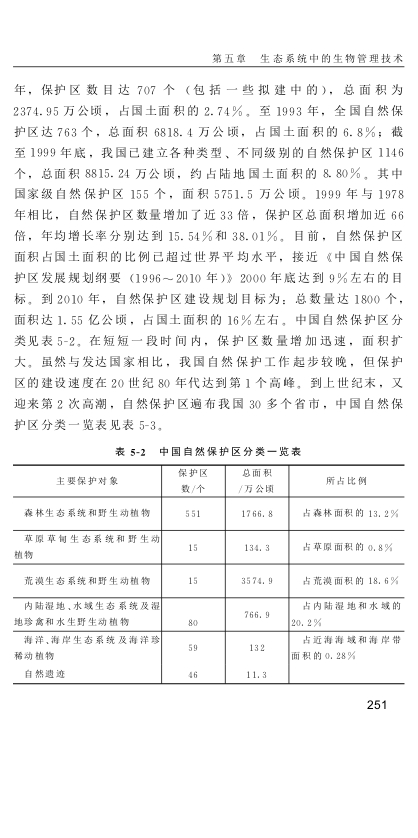table: (13, 463, 405, 684)
